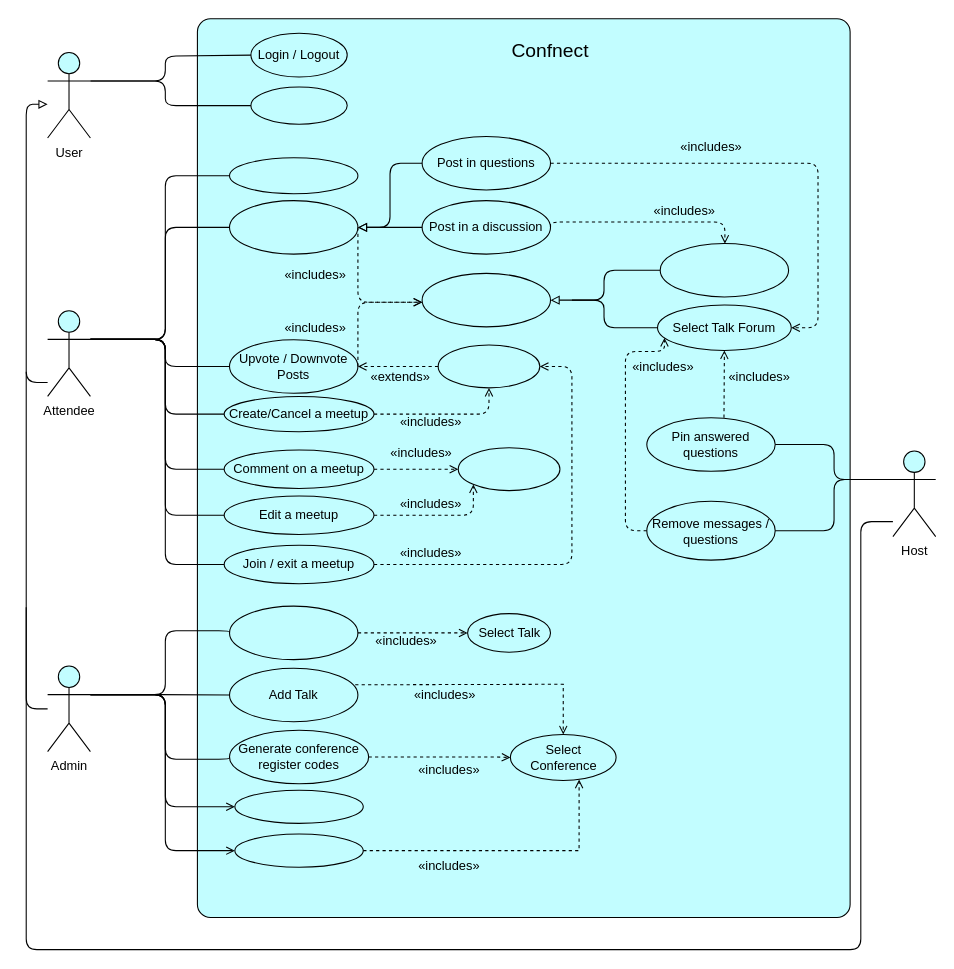
The diagram is 954 pixels wide and 969 high, and some of its shapes have lost their labels. The centre of each missing label's shape, as x and y in pixels:
"Create conference" goes at point 298,806.
"Edit / Delete Talk" goes at point 293,632.
"Edit/Remove conference" goes at point 298,850.
"Join conference" goes at point 293,175.
"Post in the forums" goes at point 293,227.
"Register" goes at point 298,105.
"Select Discussion Forum" goes at point 724,269.
"Select Forum" goes at point 486,299.
"Select Meetup" goes at point 508,469.
"Select Post" goes at point 488,366.
